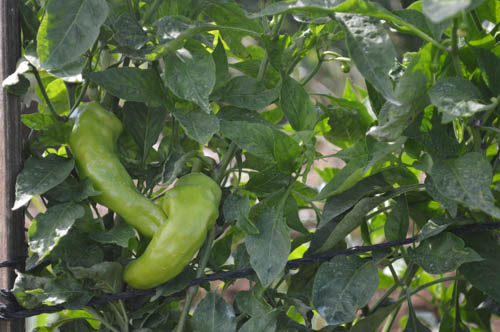ChiliPepper: (69, 102, 161, 234), (122, 172, 224, 287)
